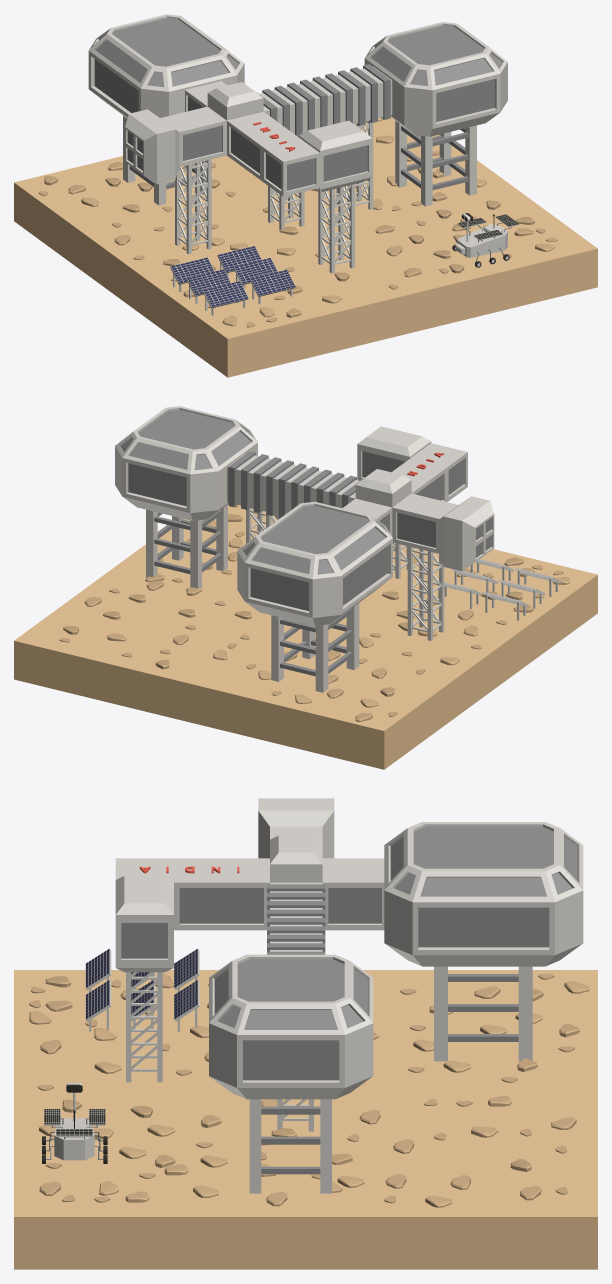
Rendered from 00 Space_17.FBX.
The picture shows the model from 3 angles, top to bottom: view 1: azimuth 30°, elevation 25°; view 2: azimuth 150°, elevation 25°; view 3: azimuth 270°, elevation 25°; orthographic projection. The views are drawn at different scales.
Parts seen in each view (by area): view 1: Box001, Box021, Box020, Box019, Line409, Line520, Box002, Line335, Box033, Box032, Line372, Box037 (+3 smaller); view 2: Box001, Box021, Box019, Box020, Line409, Line372; view 3: Box001, Box019, Box021, Box020, Box002, Line520, Box032, Box036, Box033, Box037.
Boxes of the visible parts, x1,y1,x2,y2 form: Box001: (14,117,597,377); Box021: (125,64,392,196); Box020: (364,22,507,206); Box019: (88,14,244,205); Line409: (175,159,211,254); Line520: (318,184,354,273); Box002: (452,213,519,267); Line335: (268,186,304,230); Box033: (202,281,248,315); Box032: (249,269,295,304); Line372: (336,121,373,211); Box037: (170,257,214,291); Box001: (14,504,597,769); Box021: (227,426,494,571); Box019: (237,501,392,692); Box020: (115,406,257,588); Line409: (407,546,444,640); Line372: (246,508,279,543); Box001: (14,970,597,1269); Box019: (384,822,583,1061); Box021: (115,798,384,972); Box020: (209,954,373,1193); Box002: (42,1083,107,1163); Line520: (126,972,162,1082); Box032: (85,980,111,1031); Box036: (174,980,199,1031); Box033: (85,948,111,992); Box037: (174,948,199,992).
Bounding box in the file's own units: 10000 × 4781 × 10000.
